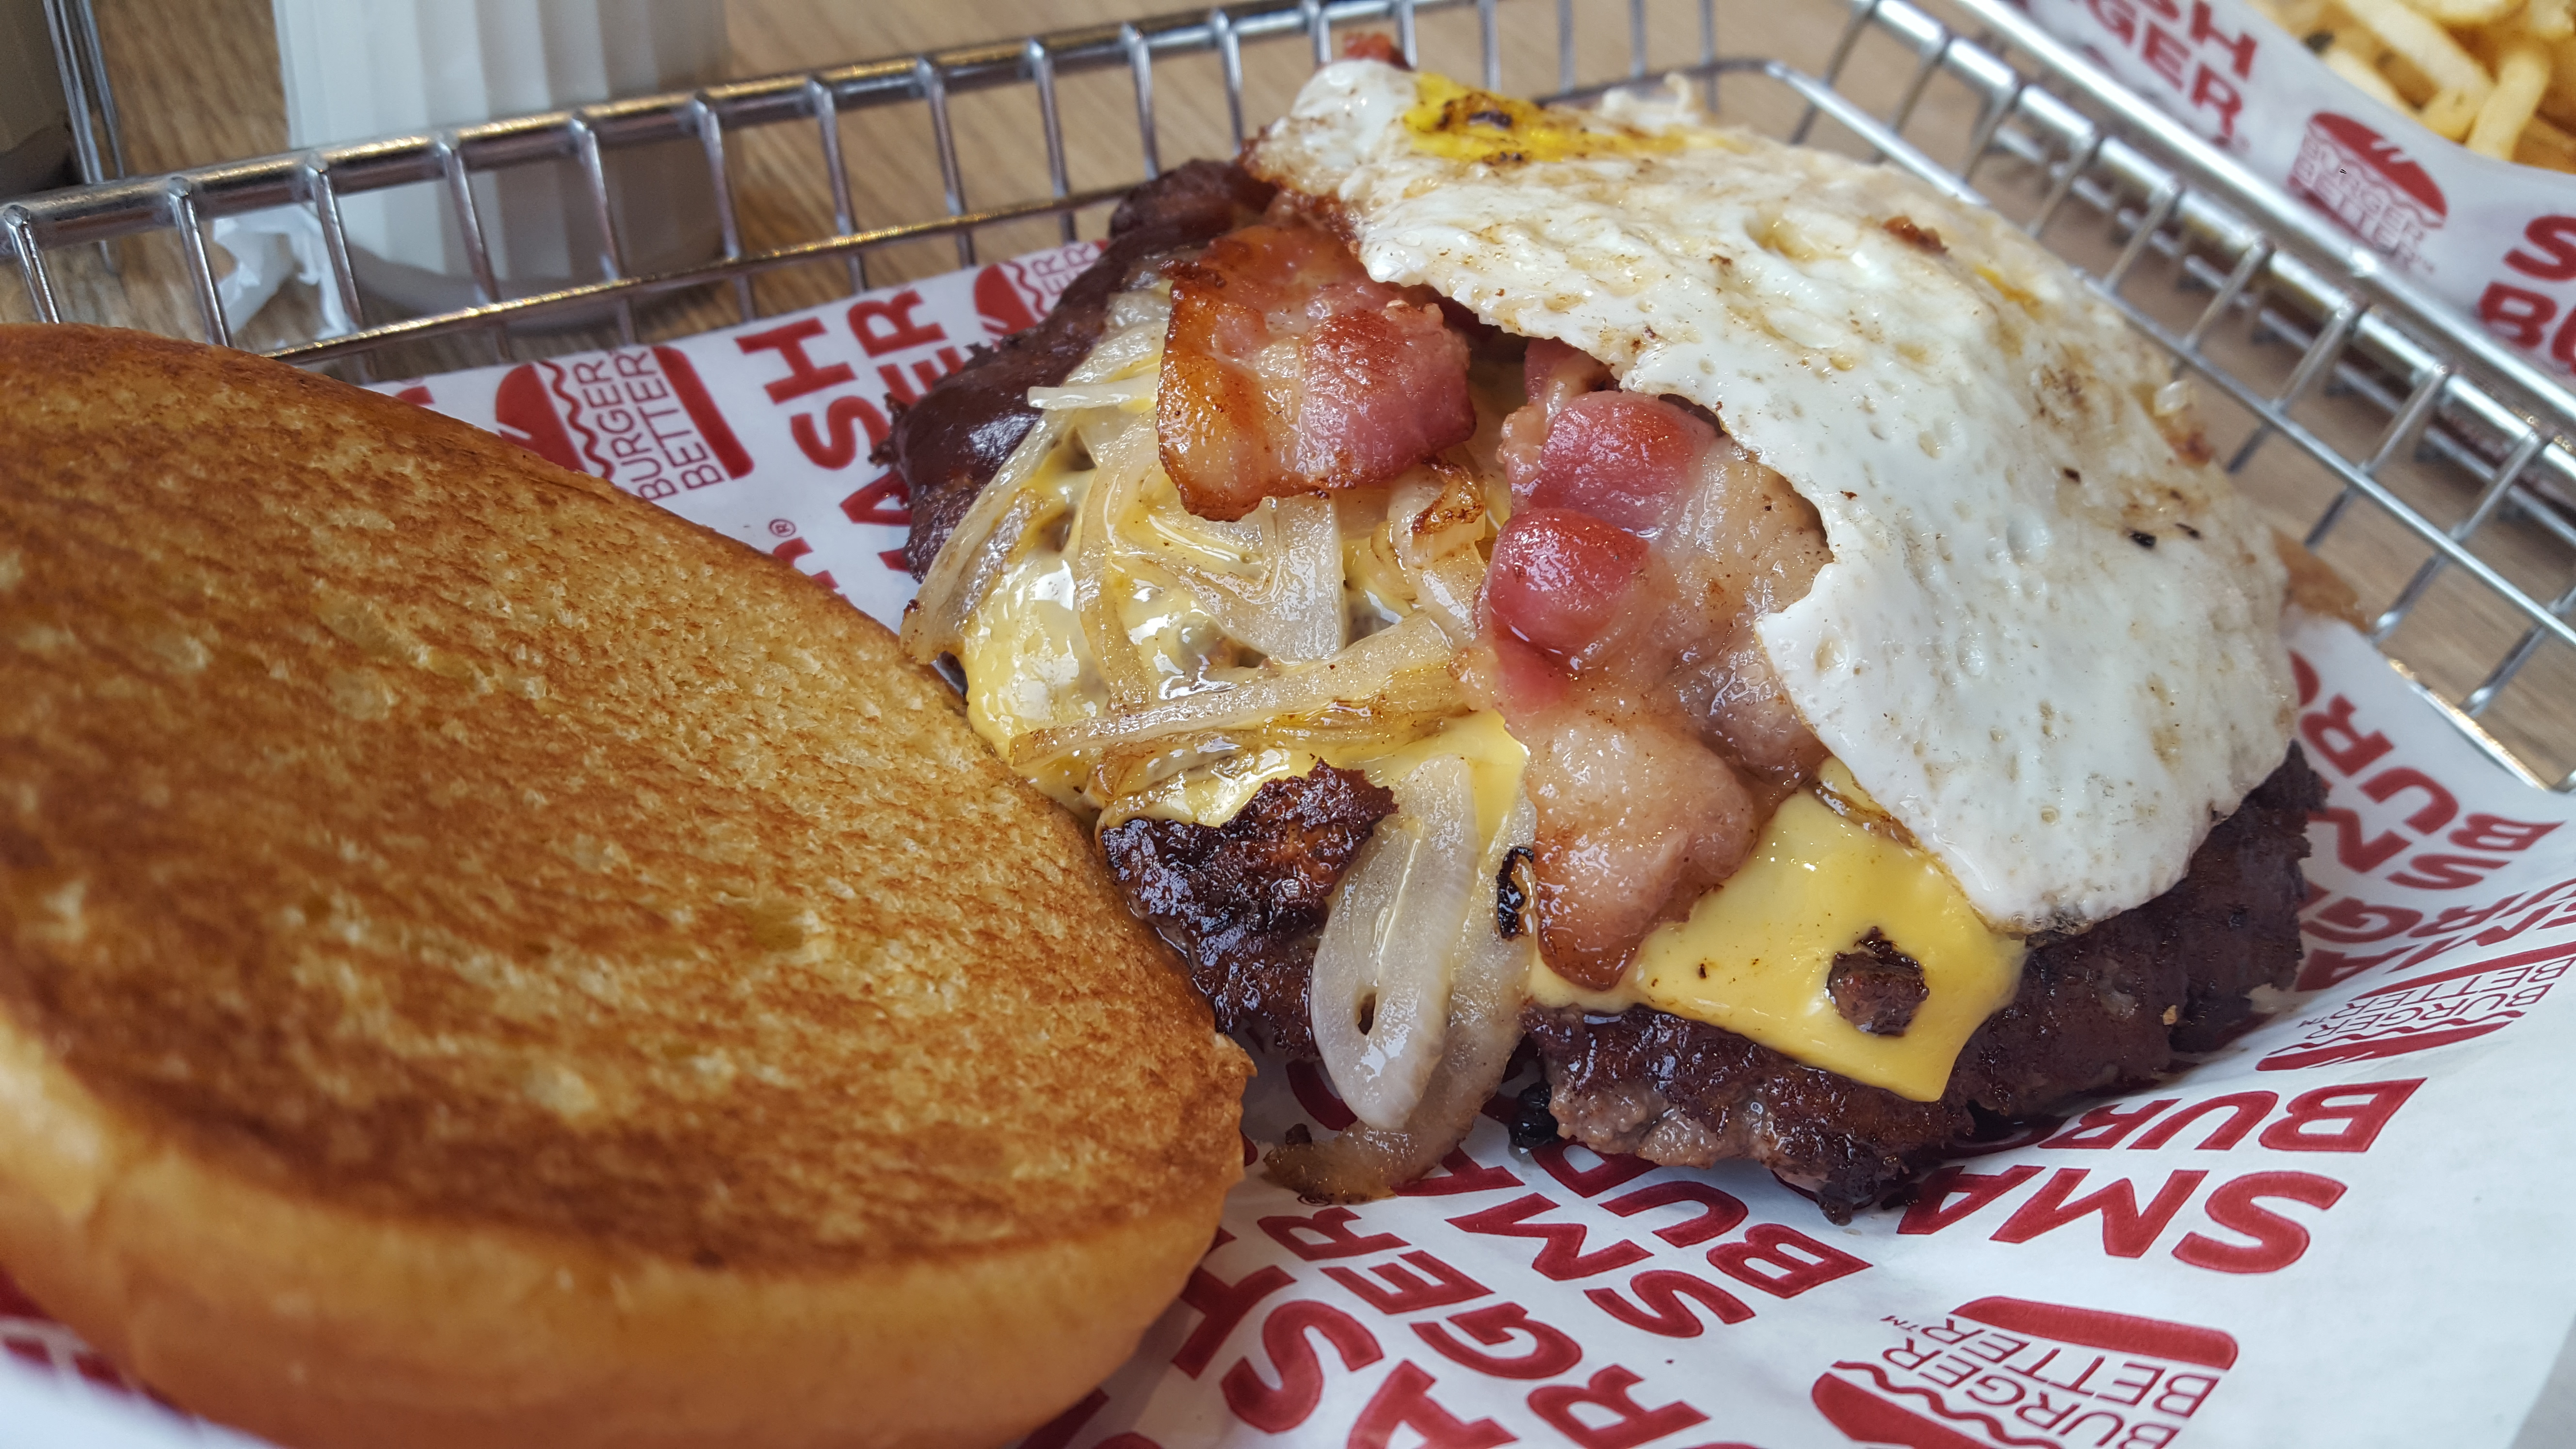fried egg: (1336, 73, 2258, 807)
slice of bread: (41, 288, 1053, 1355)
